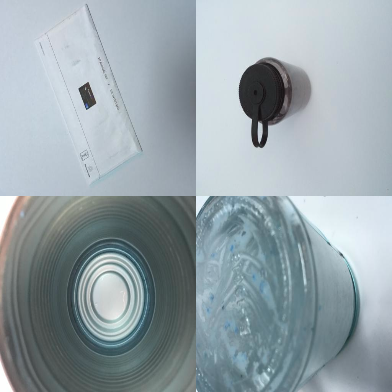metal: (1, 196, 194, 390)
paper: (36, 3, 143, 185)
plastic: (196, 195, 358, 392), (240, 56, 313, 147)
